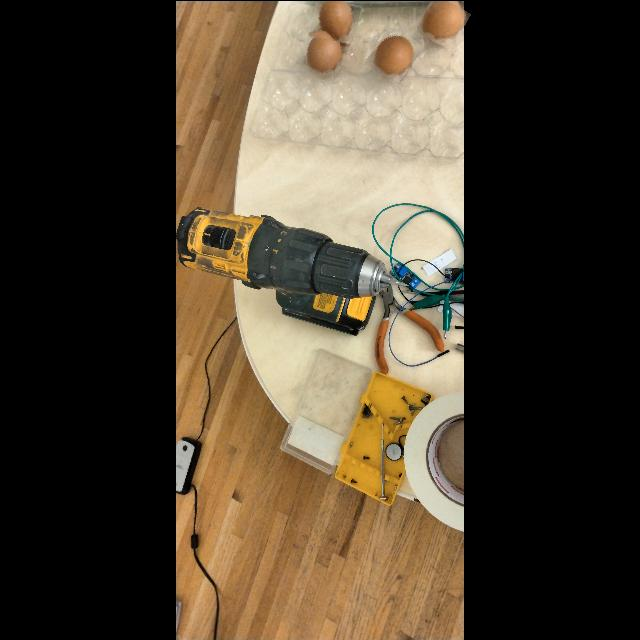Egg: (298, 21, 350, 81), (369, 26, 419, 82), (418, 0, 467, 45), (310, 0, 359, 41)
